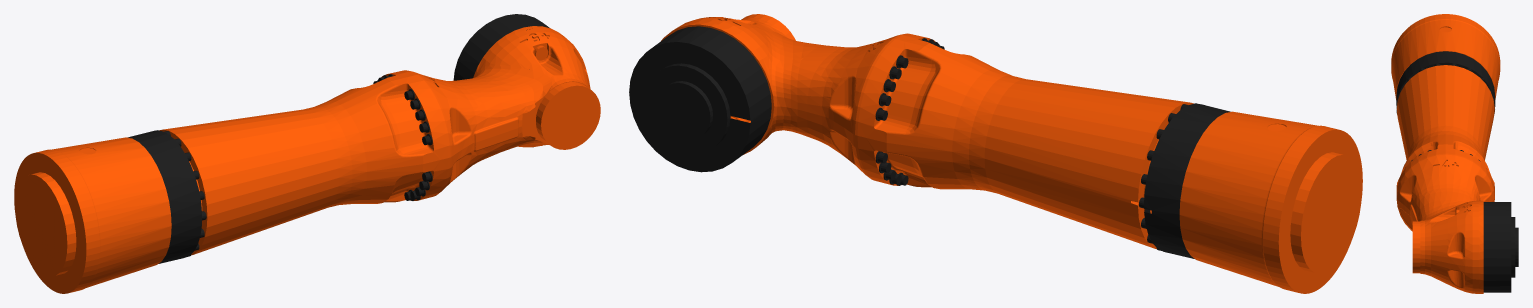
The picture shows the model from 3 angles, left to right: view 1: azimuth 30°, elevation 25°; view 2: azimuth 150°, elevation 25°; view 3: azimuth 270°, elevation 25°; orthographic projection. The views are drawn at different scales.
Visible parts, largest first — view 1: link_4; view 2: link_4; view 3: link_4.
Part boxes in pixels (<box>): link_4: <box>14,14,600,293</box>; link_4: <box>629,14,1362,293</box>; link_4: <box>1391,14,1518,293</box>.
Bounding box in the file's own units: 0.619 × 0.1613 × 0.138.
